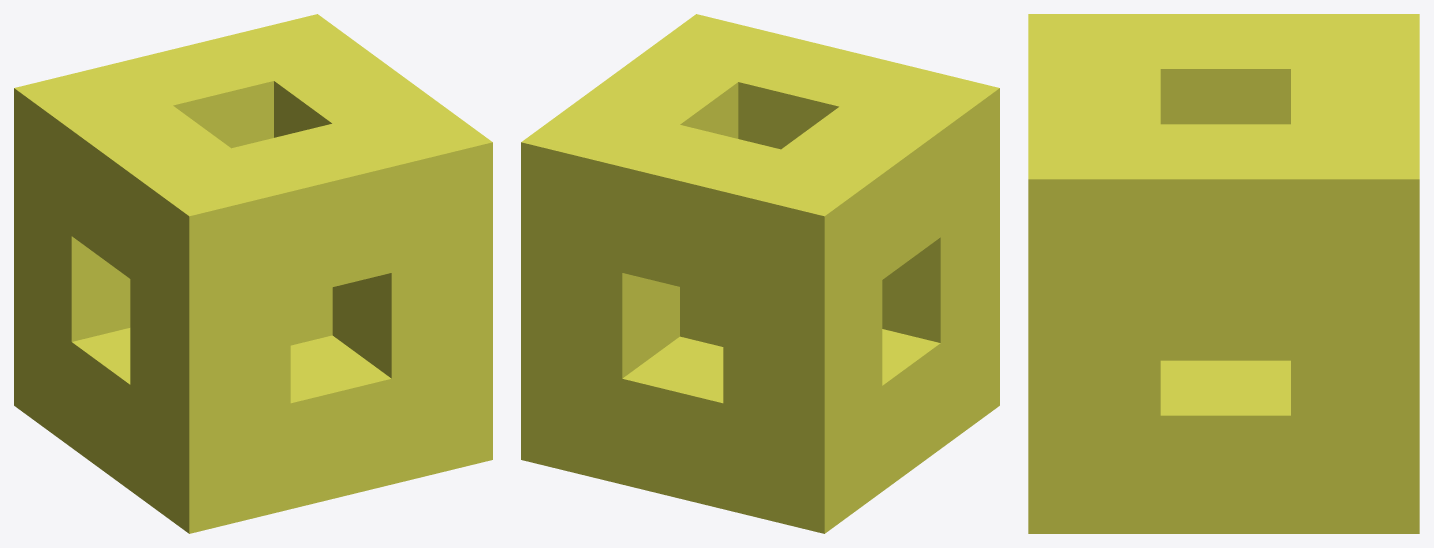
File: prismo.glb
3 views of the same model, side by side, from view 1: azimuth 30°, elevation 25°; view 2: azimuth 150°, elevation 25°; view 3: azimuth 270°, elevation 25° (orthographic). The views are drawn at different scales.
Visible parts, largest first — view 1: Cube; view 2: Cube; view 3: Cube.
Part boxes in pixels (box(x1,y1,x2,y2)): Cube: box(14, 14, 492, 533); Cube: box(521, 14, 999, 533); Cube: box(1028, 14, 1419, 533).
Bounding box in the file's own units: 2 × 2 × 2.
